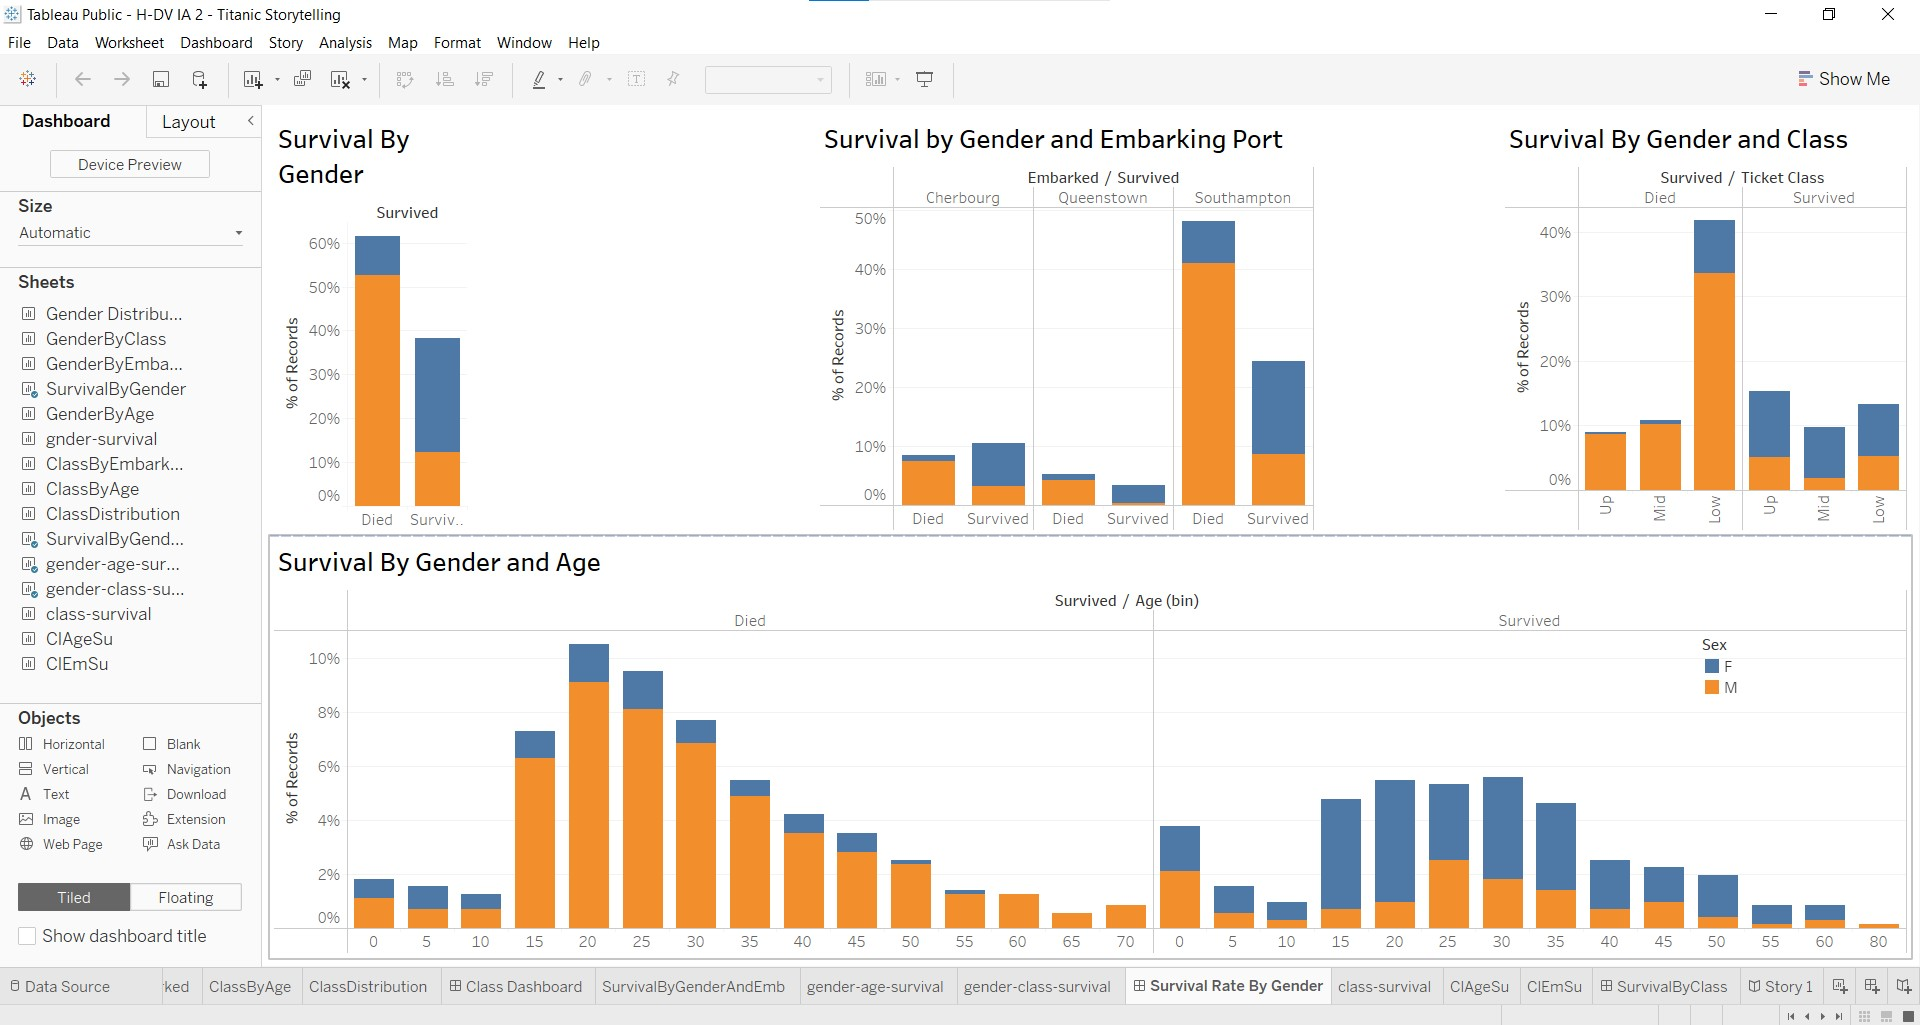

The dashboard page shown, as its layout file describes it:
{"tool":"tableau","page":{"name":"Survival Rate By Gender","canvas":[1000,1000],"units":"permille","ordinal":2},"visuals":[{"type":"worksheet","title":"SurvivalByGender","mark":"Automatic","cols":["Survived"],"box":[4.8,9.3,329.7,490.7]},{"type":"worksheet","title":"SurvivalByGenderAndEmb","mark":"Automatic","rows":["Number of Records"],"cols":["Embarked","Survived"],"box":[334.5,9.3,413.1,490.7]},{"type":"worksheet","title":"gender-class-survival","mark":"Automatic","rows":["Number of Records"],"cols":["Survived","Pclass"],"box":[747.6,9.3,247.6,490.7]},{"type":"worksheet","title":"gender-age-survival","mark":"Automatic","rows":["Number of Records"],"cols":["Survived","Age (bin)"],"box":[4.8,500,990.3,490.7]},{"type":"legend","title":"SurvivalByGender","param":"[federated.1lpd77m006dcib10ukoc00imbeq4].[none:Sex:nk]","box":[866.6,609.8,96.6,83.6]}]}

Visuals, with their boxes on the dashboard's canvas, which has no fixed pixel size, in thousandths of its width and height (x1, y1, x2, y2). These are canvas units, not pixel positions in the 1920x1025 screenshot, which may show the page scaled, cropped or inside an application window:
"SurvivalByGender" worksheet: <bbox>5, 9, 334, 500</bbox>
"SurvivalByGenderAndEmb" worksheet: <bbox>334, 9, 748, 500</bbox>
"gender-class-survival" worksheet: <bbox>748, 9, 995, 500</bbox>
"gender-age-survival" worksheet: <bbox>5, 500, 995, 991</bbox>
"SurvivalByGender" legend: <bbox>867, 610, 963, 693</bbox>
